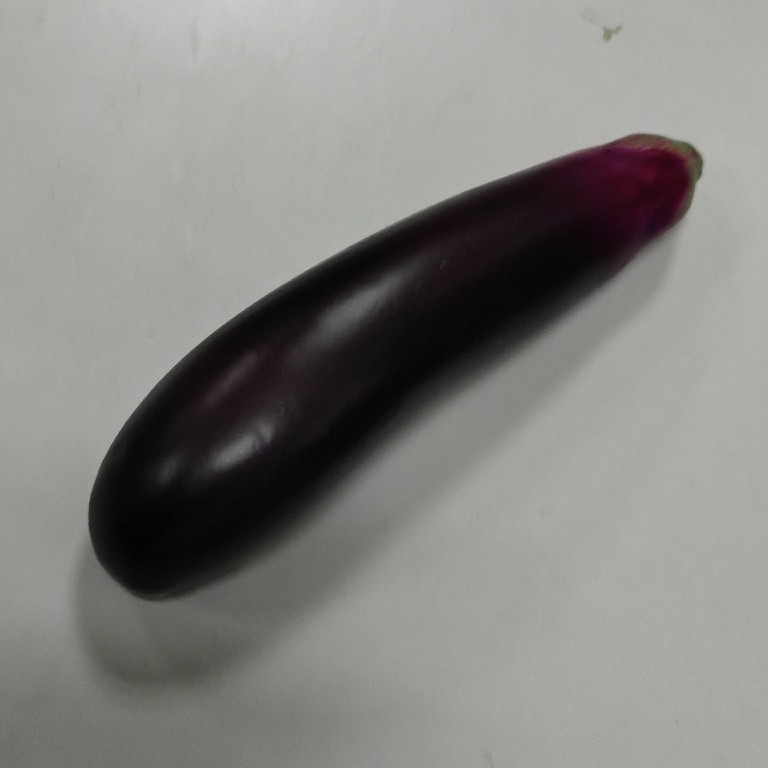fruit_eggplant: (83, 126, 710, 605)
